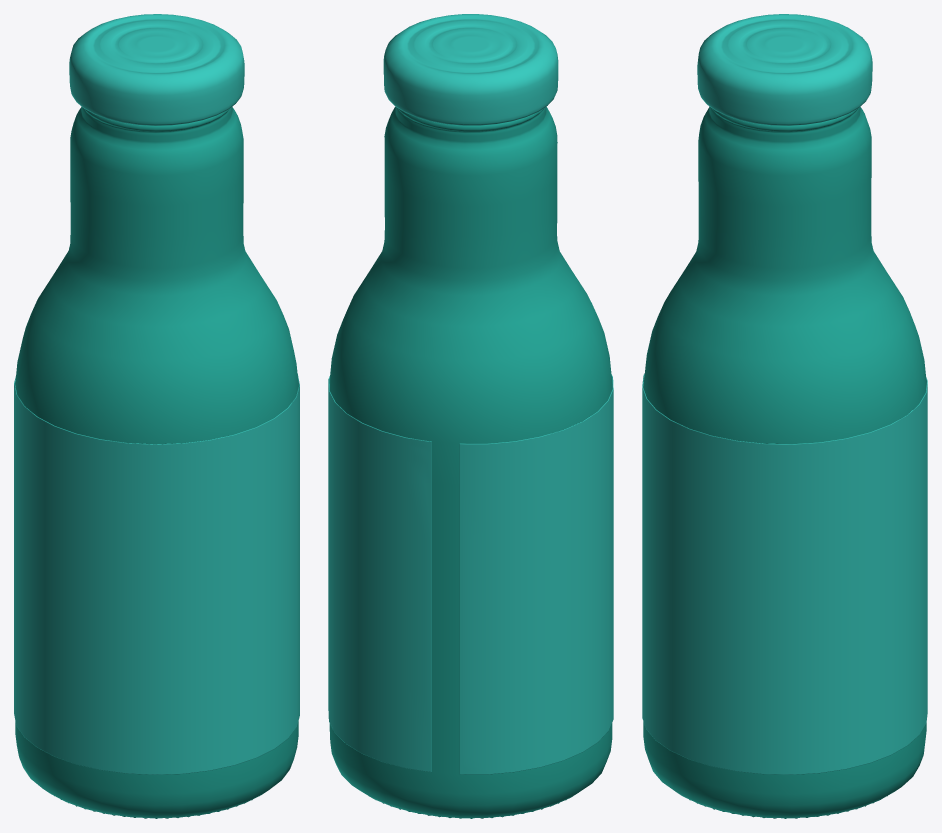
Rendered from hatsu_verde.fbx.
The picture shows the model from 3 angles, left to right: view 1: azimuth 30°, elevation 25°; view 2: azimuth 150°, elevation 25°; view 3: azimuth 270°, elevation 25°; orthographic projection.
Visible parts, largest first — view 1: Bottle; view 2: Bottle; view 3: Bottle.
Part boxes in pixels (x1,y1,x2,y2): Bottle: (14,14,299,818); Bottle: (328,14,613,818); Bottle: (642,14,927,818).
Bounding box in the file's own units: 6.6 × 18.42 × 6.6.
